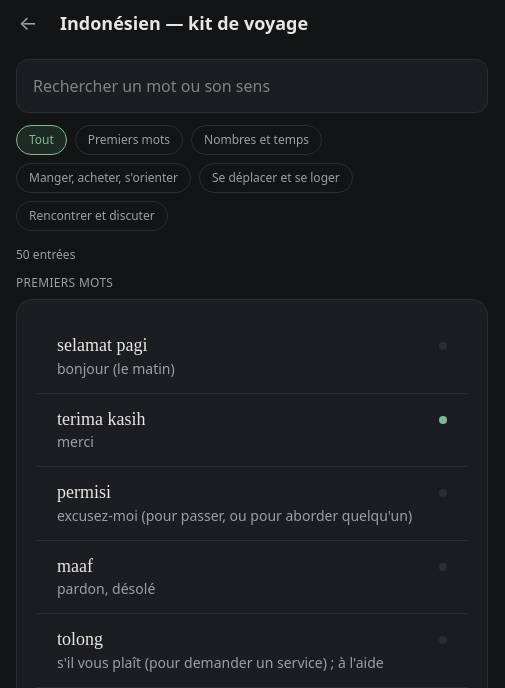
it: lexique › montre où en est chaque mot
Click the text "terima kasih": (101, 419) left=57, top=408, right=146, bottom=430
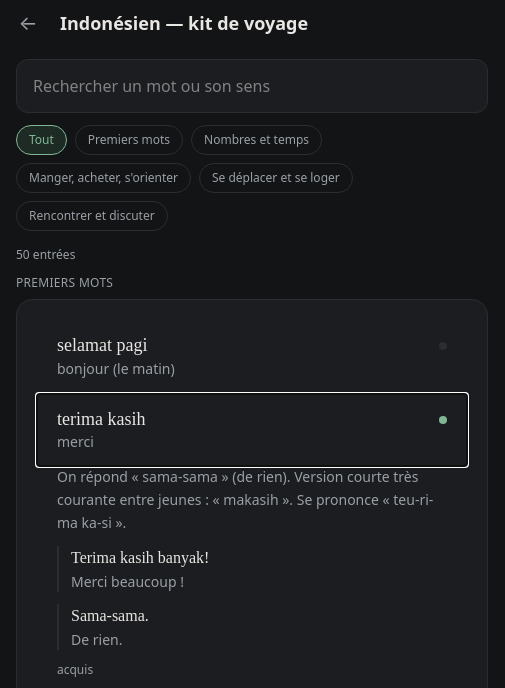
Now the text "acquis" is shown, box left=57, top=662, right=93, bottom=678
